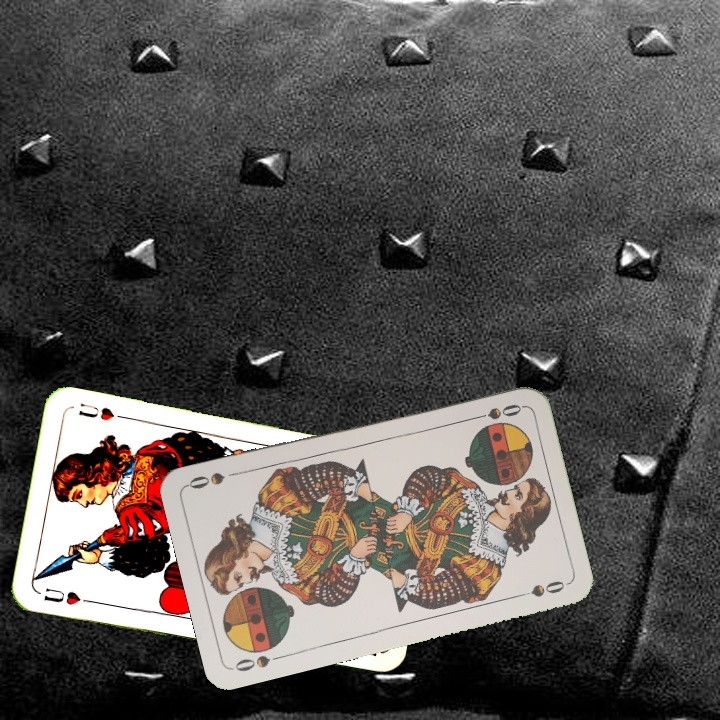HU: (39, 584, 94, 608)
SO: (230, 650, 287, 674), (466, 400, 525, 423)
